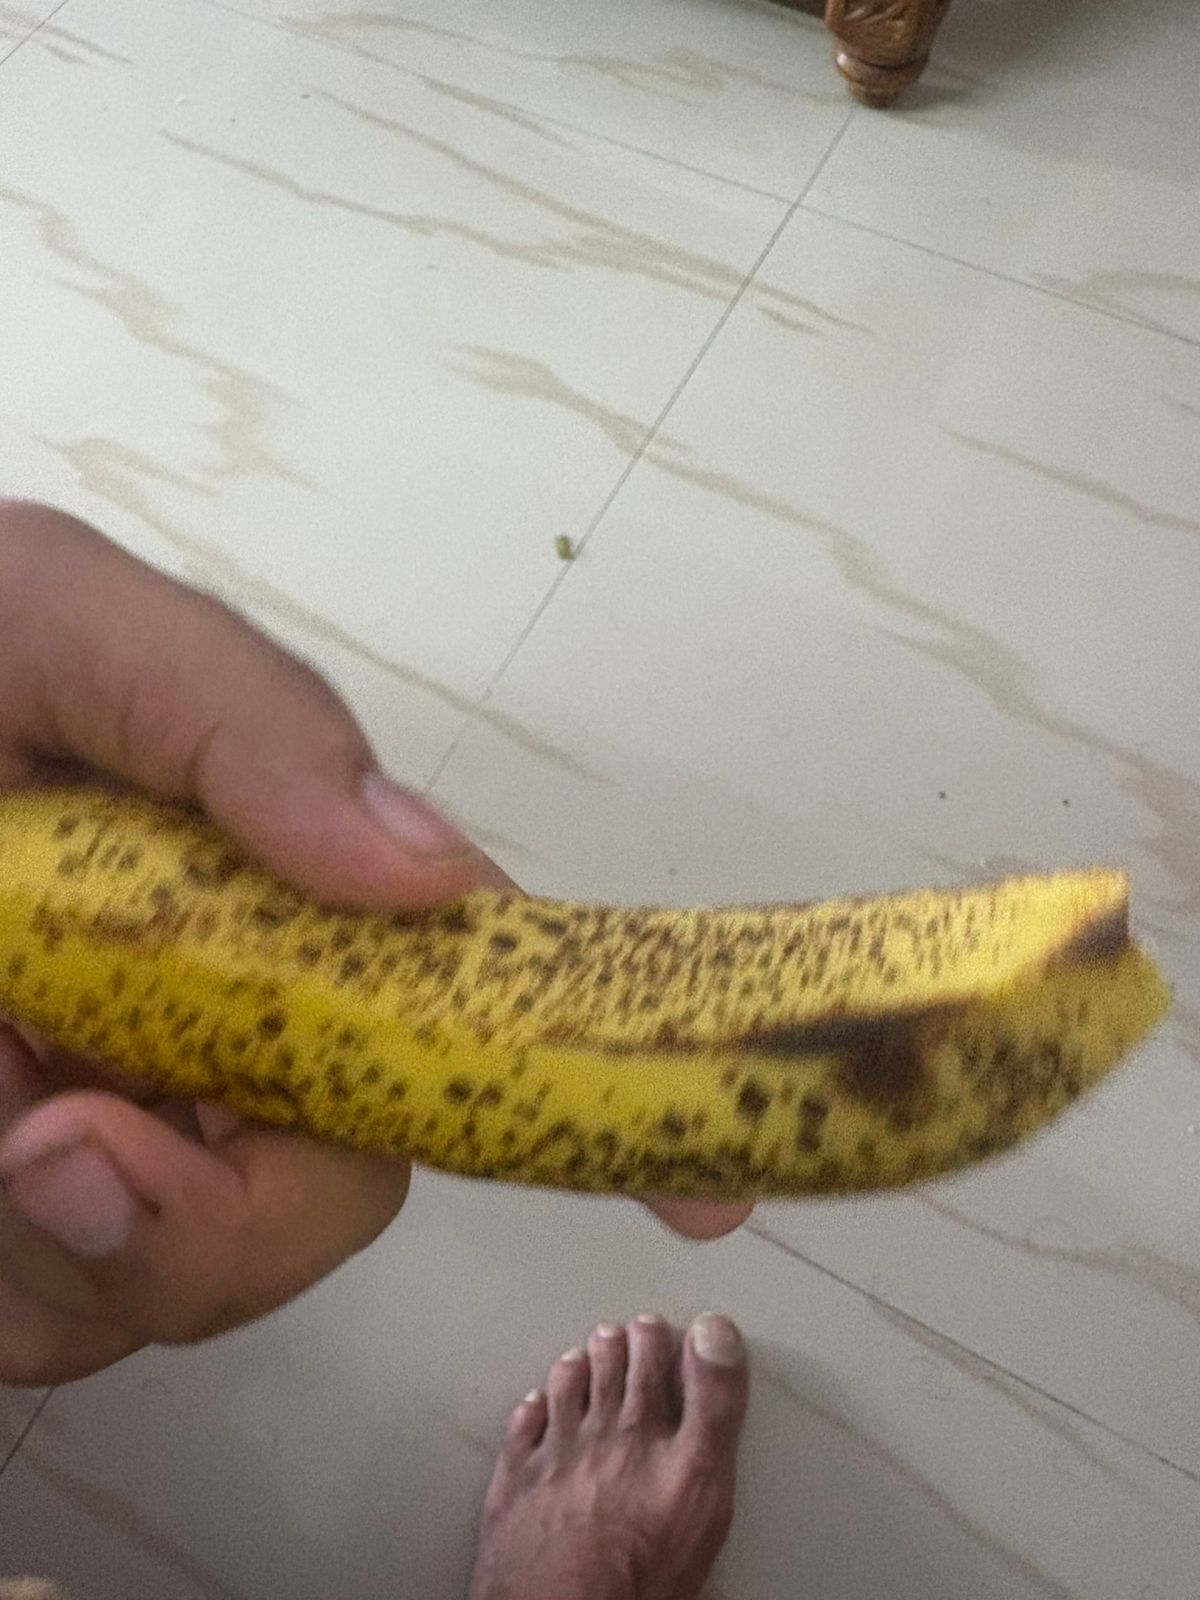wet: (1, 755, 1172, 1197)
